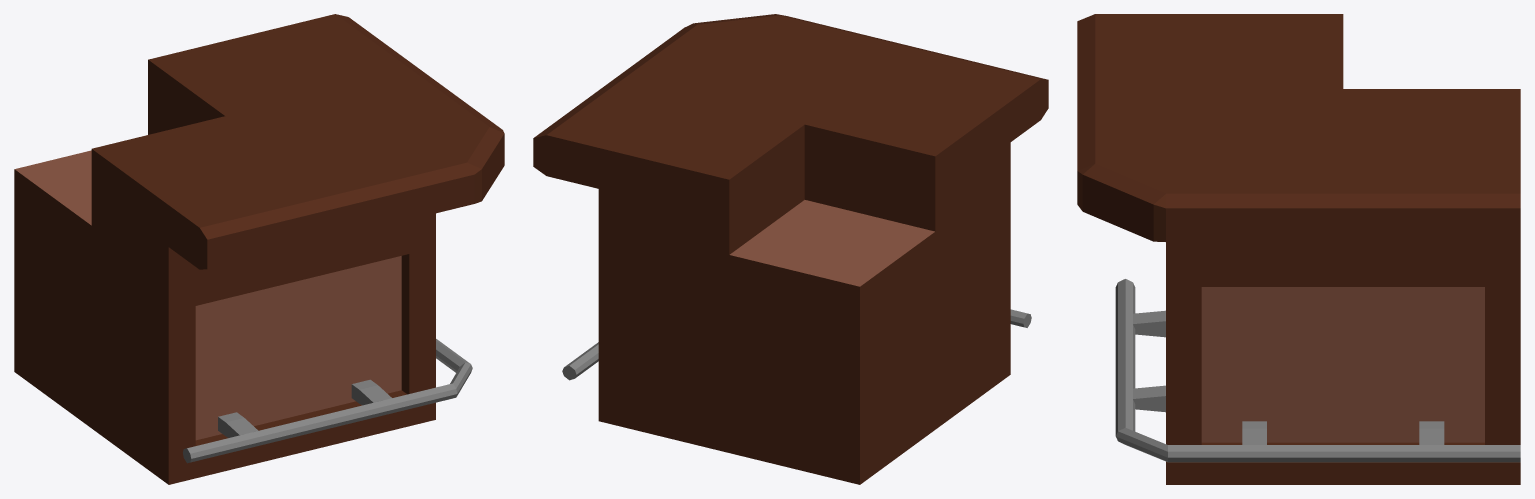
The model's file is Bar Corner.fbx.
3 views of the same model, side by side, from view 1: azimuth 30°, elevation 25°; view 2: azimuth 150°, elevation 25°; view 3: azimuth 270°, elevation 25° (orthographic). The views are drawn at different scales.
Visible parts, largest first — view 1: Bar Corner, CornerPole; view 2: Bar Corner, CornerPole; view 3: Bar Corner, CornerPole.
Part boxes in pixels (x1,y1,x2,y2): Bar Corner: (14,14,504,484); CornerPole: (183,339,472,463); Bar Corner: (533,14,1048,484); CornerPole: (562,309,1031,380); Bar Corner: (1077,14,1520,484); CornerPole: (1115,279,1520,462).
Size of the model in its own units: 2500 by 2000 by 2500.
